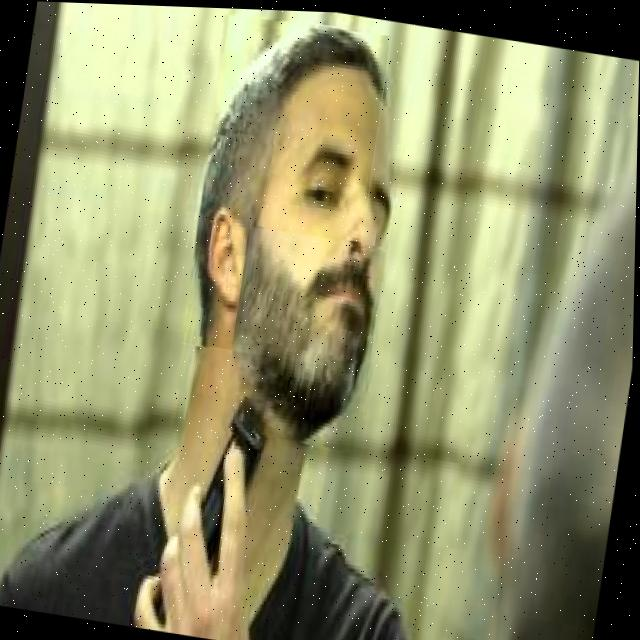beard: (236, 226, 376, 440)
hair: (199, 24, 382, 344)
